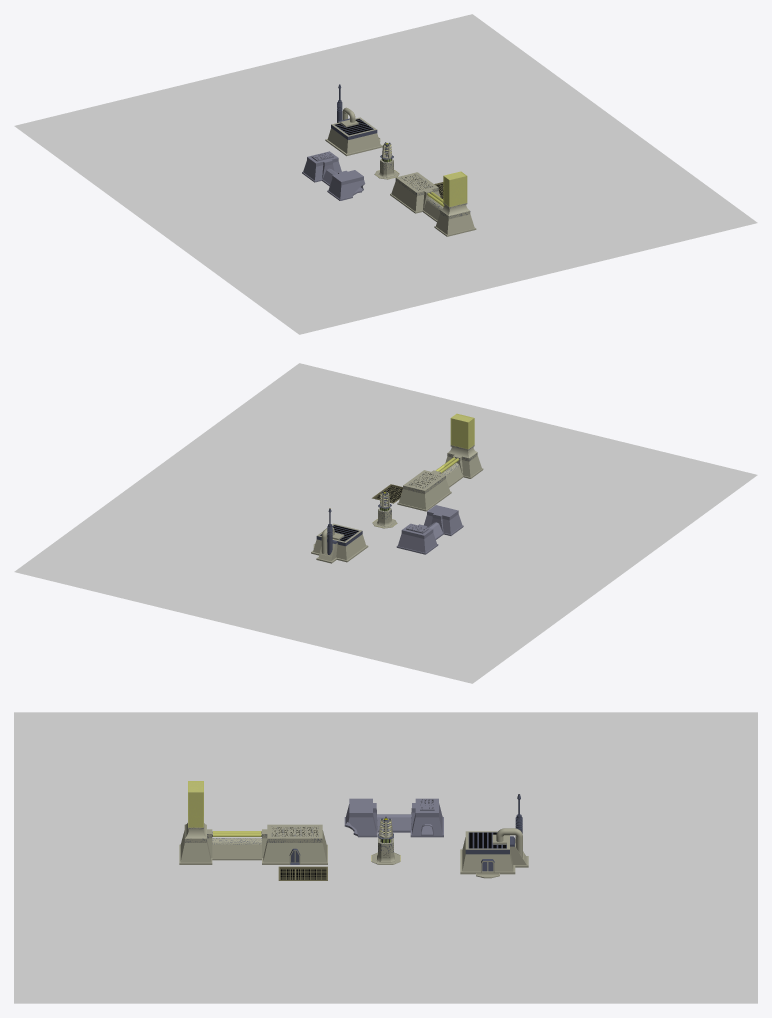
3 views of the same model, one above another, from view 1: azimuth 30°, elevation 25°; view 2: azimuth 150°, elevation 25°; view 3: azimuth 270°, elevation 25° (orthographic). The views are drawn at different scales.
Visible parts, largest first — view 1: Group20, Group22, Group27, Group21; view 2: Group20, Group22, Group21, Group27; view 3: Group20, Group22, Group27, Group21, Group2, Group26.
Part boxes in pixels (<box>): Group20: <box>14,14,757,334</box>; Group22: <box>390,171,476,236</box>; Group27: <box>325,84,382,156</box>; Group21: <box>302,151,365,200</box>; Group20: <box>14,363,757,683</box>; Group22: <box>397,413,483,511</box>; Group21: <box>396,505,463,554</box>; Group27: <box>311,508,368,563</box>; Group20: <box>14,712,757,1003</box>; Group22: <box>179,781,327,864</box>; Group27: <box>460,794,528,878</box>; Group21: <box>344,798,443,837</box>; Group2: <box>371,838,400,864</box>; Group26: <box>280,869,326,879</box>.
Bounding box in the file's own units: 14112 × 15214 × 1582.
